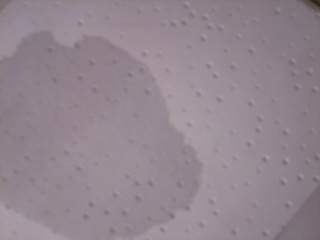Water_detected: (0, 63, 167, 215)
